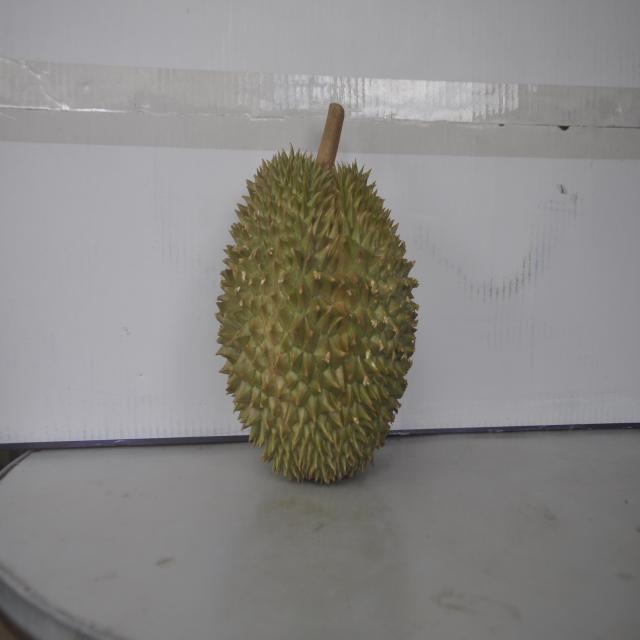mature: (215, 125, 419, 485)
